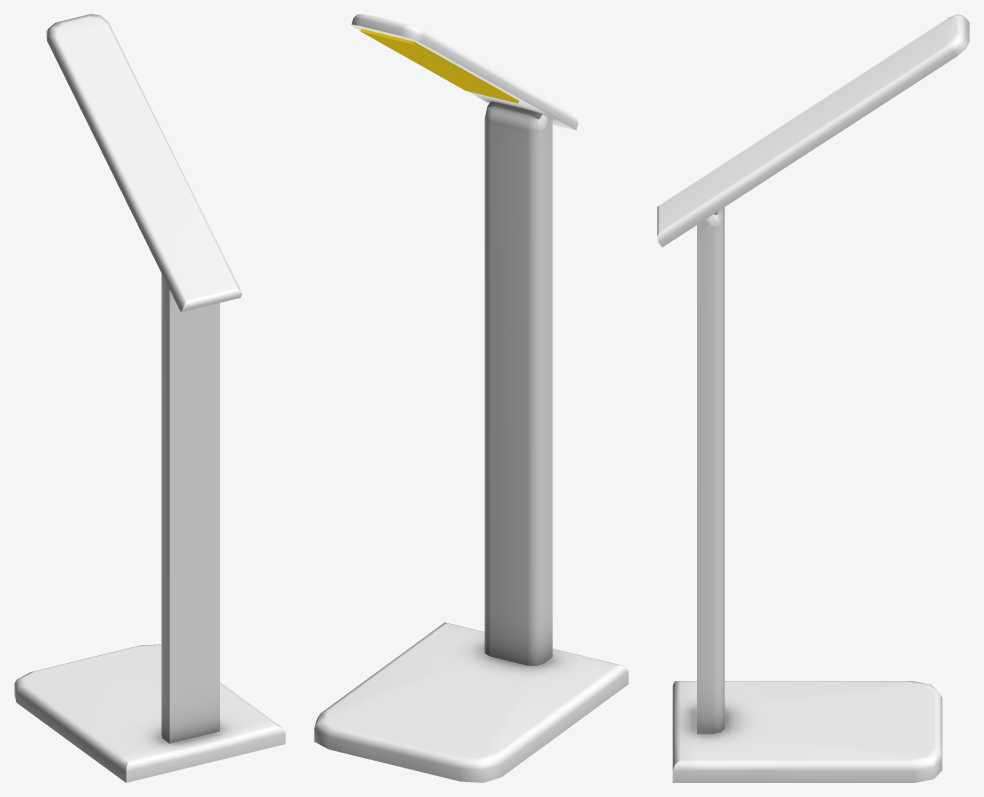
Rendered from Table Lamp.FBX.
3 views of the same model, side by side, from view 1: azimuth 30°, elevation 25°; view 2: azimuth 150°, elevation 25°; view 3: azimuth 270°, elevation 25° (orthographic). The views are drawn at different scales.
Parts seen in each view (by area): view 1: Lamp; view 2: Lamp; view 3: Lamp.
Part boxes in pixels (left/top/right/bottom): Lamp: left=14, top=14, right=285, bottom=782; Lamp: left=314, top=14, right=628, bottom=782; Lamp: left=657, top=14, right=969, bottom=782.
Bounding box in the file's own units: 0.0849 × 0.1308 × 0.3302.
